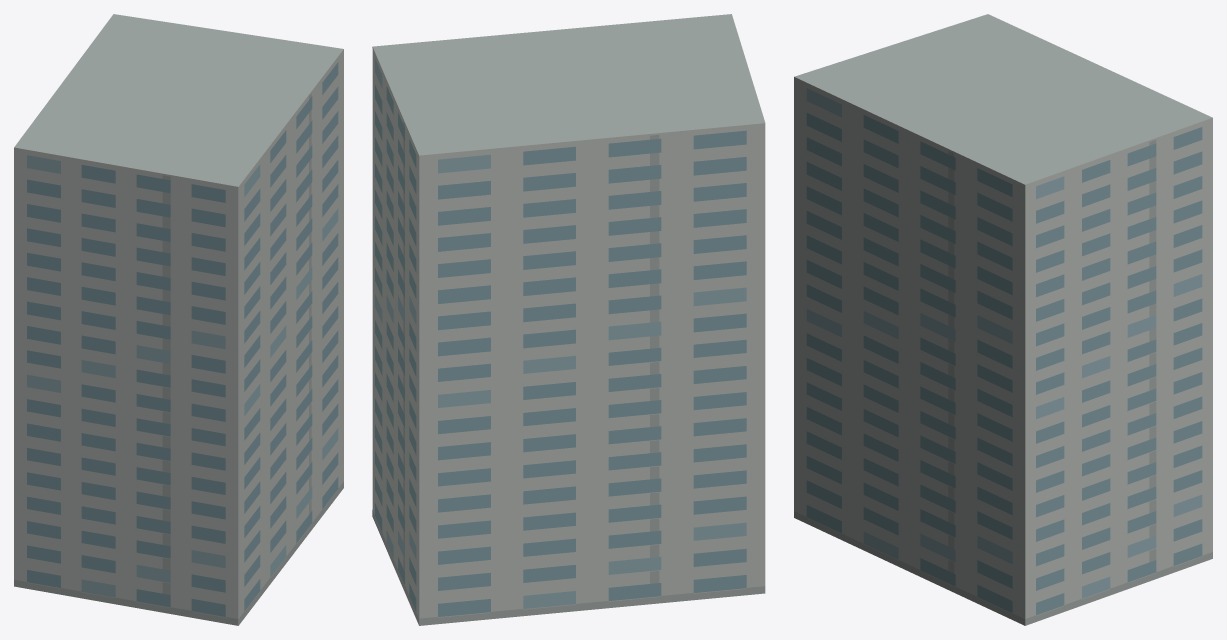
File: residential-1f448388-4afc-4d10-97b6-826c81f3e545.glb
3 views of the same model, side by side, from view 1: azimuth 30°, elevation 25°; view 2: azimuth 150°, elevation 25°; view 3: azimuth 270°, elevation 25° (orthographic). The views are drawn at different scales.
Visible parts, largest first — view 1: residential-1f448388-4afc-4d10-97b6-826c81f3e545.tmp; view 2: residential-1f448388-4afc-4d10-97b6-826c81f3e545.tmp; view 3: residential-1f448388-4afc-4d10-97b6-826c81f3e545.tmp.
Part boxes in pixels (x1=…): residential-1f448388-4afc-4d10-97b6-826c81f3e545.tmp: x1=14, y1=14, x2=343, y2=625; residential-1f448388-4afc-4d10-97b6-826c81f3e545.tmp: x1=372, y1=14, x2=765, y2=625; residential-1f448388-4afc-4d10-97b6-826c81f3e545.tmp: x1=794, y1=14, x2=1212, y2=625.
Size of the model in its own units: 53.98 by 65 by 55.94.
